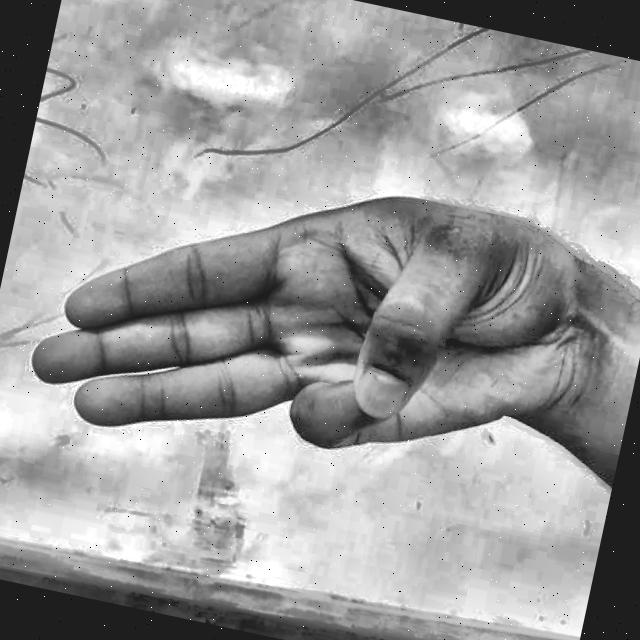Ma: (0, 99, 631, 599)
